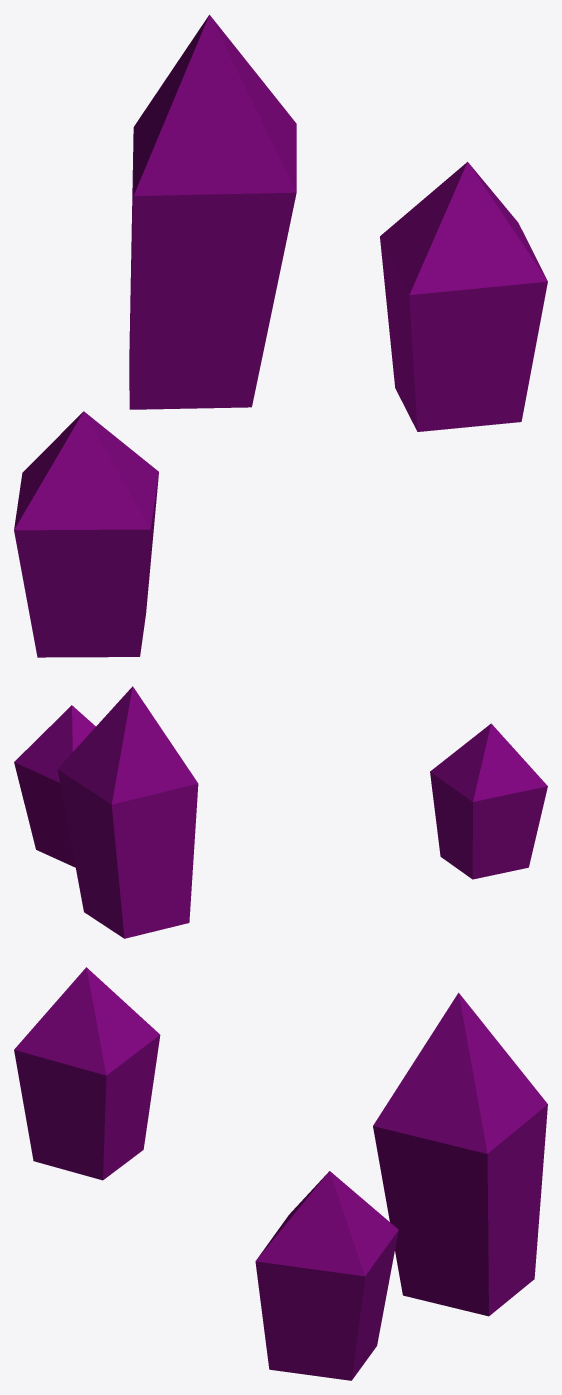
File: crystal_vitium_2.obj
3 views of the same model, one above another, from view 1: azimuth 30°, elevation 25°; view 2: azimuth 150°, elevation 25°; view 3: azimuth 270°, elevation 25° (orthographic). The views are drawn at different scales.
Visible parts, largest first — view 1: s016, s014, s015; view 2: s016, s015, s014; view 3: s016, s015, s014.
Part boxes in pixels (left/top/right/bottom): s016: left=129, top=14, right=296, bottom=409; s014: left=380, top=162, right=547, bottom=431; s015: left=14, top=411, right=158, bottom=657; s016: left=57, top=686, right=198, bottom=938; s015: left=430, top=723, right=547, bottom=879; s014: left=14, top=705, right=95, bottom=867; s016: left=373, top=992, right=547, bottom=1316; s015: left=14, top=967, right=160, bottom=1180; s014: left=255, top=1171, right=398, bottom=1380.
Size of the model in its own units: 0.8279 by 0.4254 by 0.6865.
